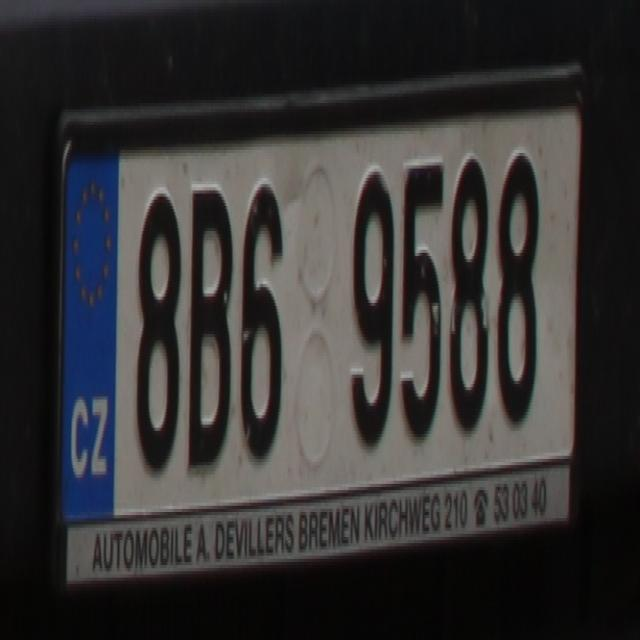5: (399, 140, 441, 444)
6: (238, 184, 288, 468)
8: (132, 181, 180, 481), (491, 150, 541, 428), (446, 153, 490, 440)
9: (348, 162, 394, 446)
B: (182, 178, 235, 474)
